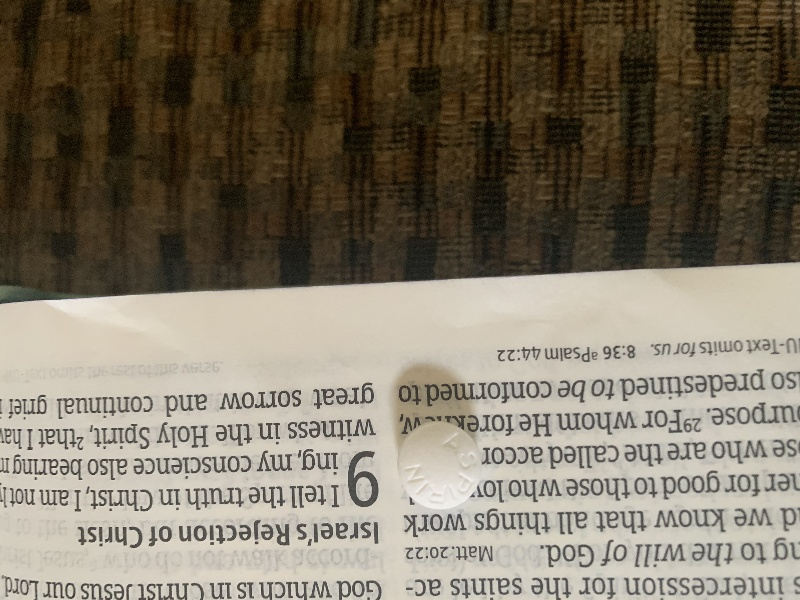Aspirin: (393, 412, 486, 517)
